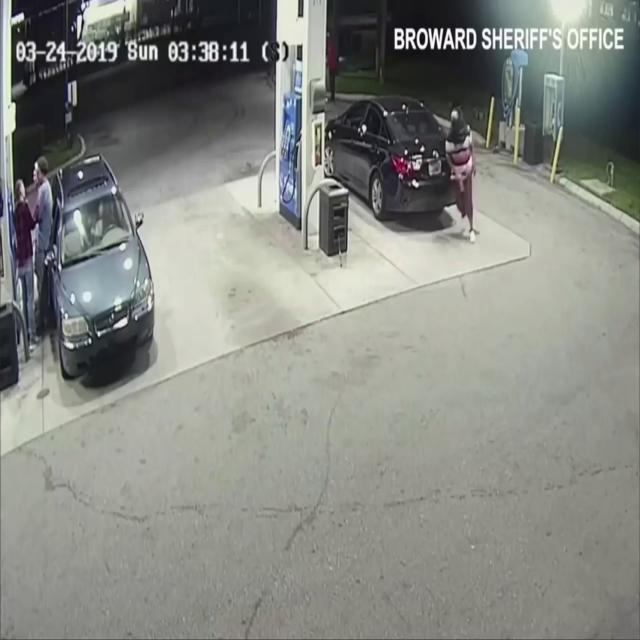Gun: (454, 174, 466, 194)
